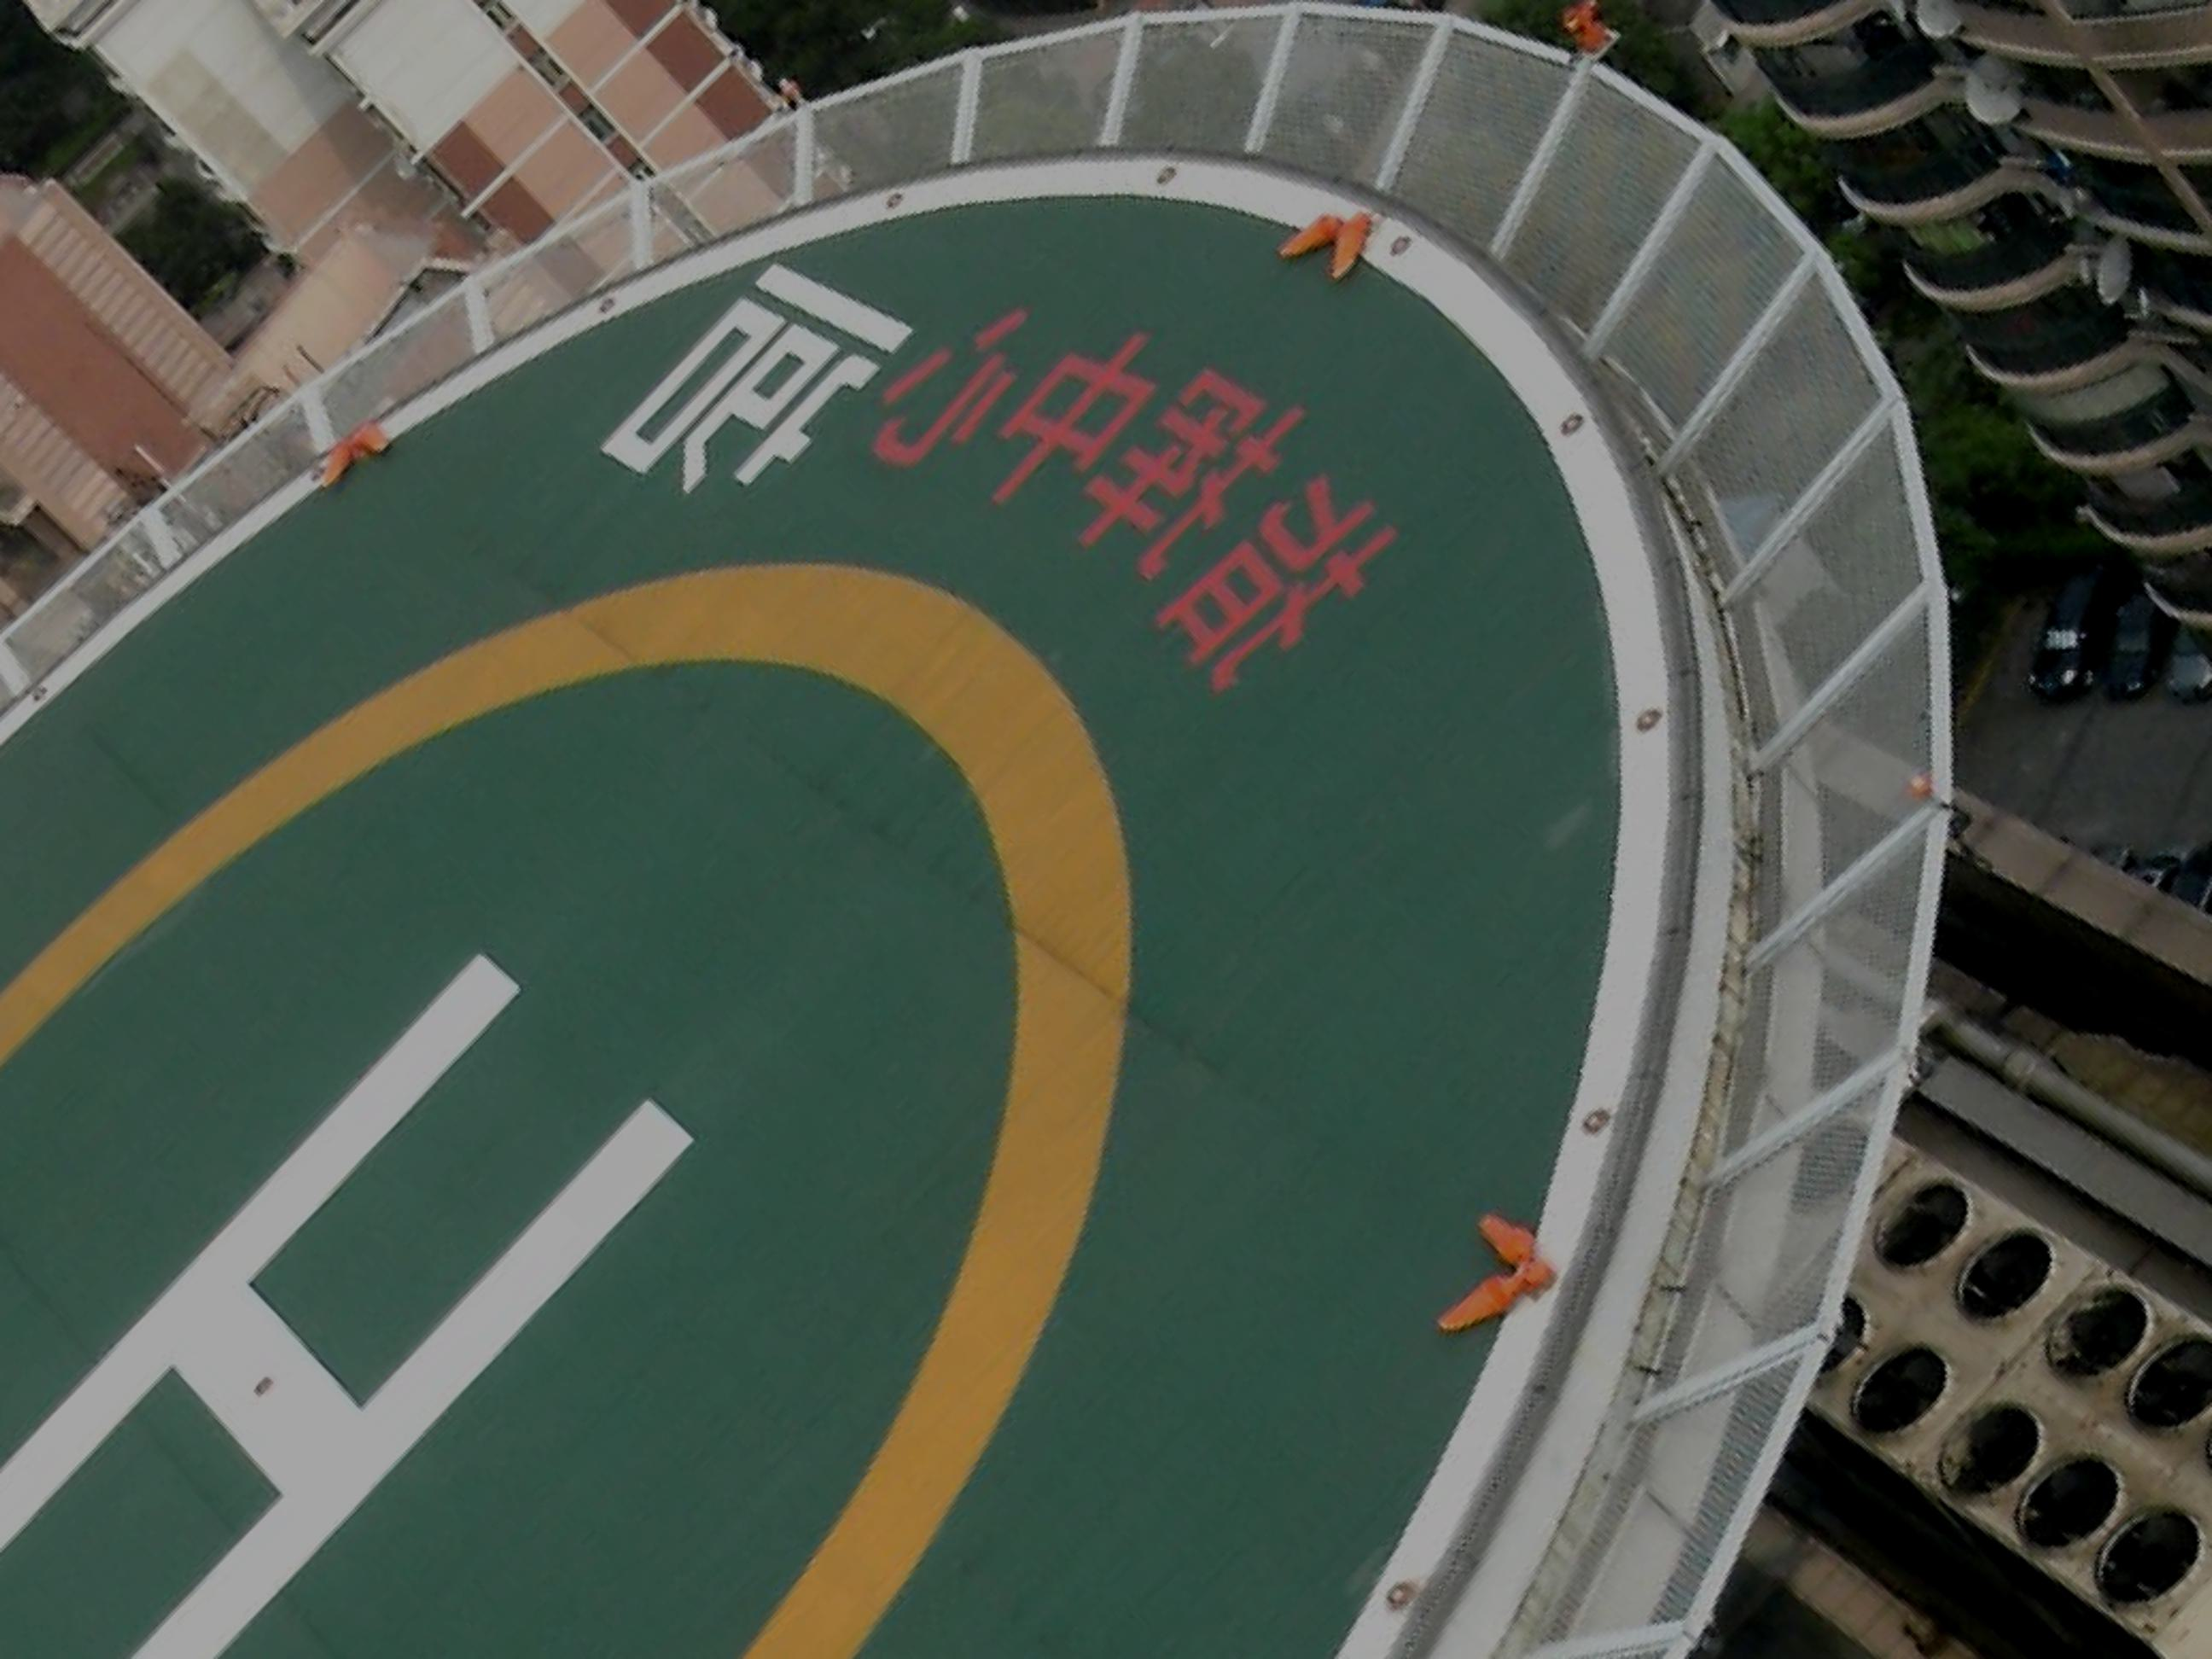Apron: (49, 488, 1143, 1652)
